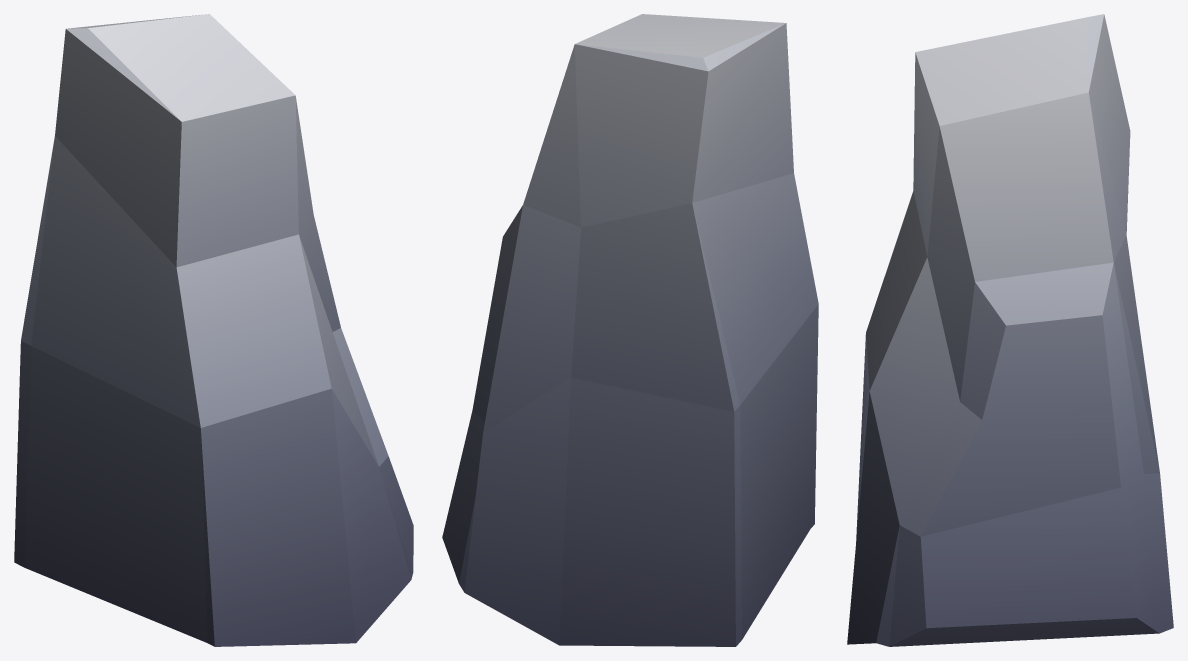
File: Rock_1.fbx
3 renders of one model, left to right at view 1: azimuth 30°, elevation 25°; view 2: azimuth 150°, elevation 25°; view 3: azimuth 270°, elevation 25°, orthographic. The views are drawn at different scales.
Parts seen in each view (by area): view 1: Rock_1; view 2: Rock_1; view 3: Rock_1.
Part boxes in pixels (bbox=[...]): Rock_1: bbox=[14, 14, 413, 646]; Rock_1: bbox=[442, 14, 818, 646]; Rock_1: bbox=[847, 14, 1173, 646].
Size of the model in its own units: 0.4853 by 0.8777 by 0.4667.
